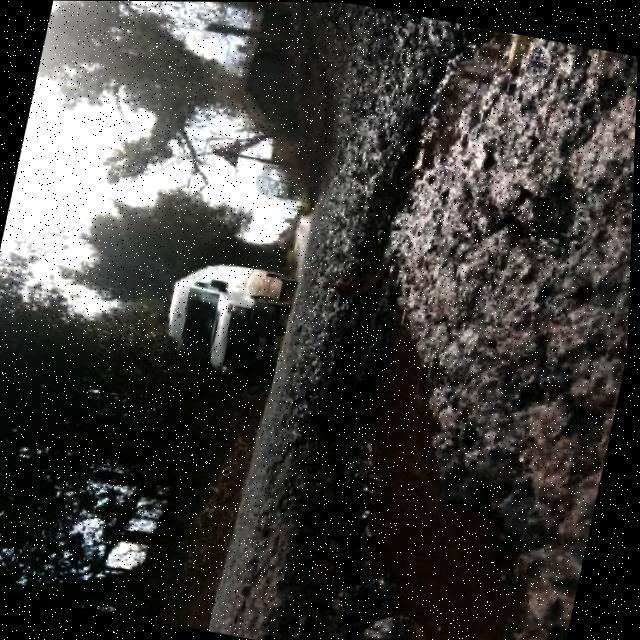pothole: (239, 5, 640, 640)
